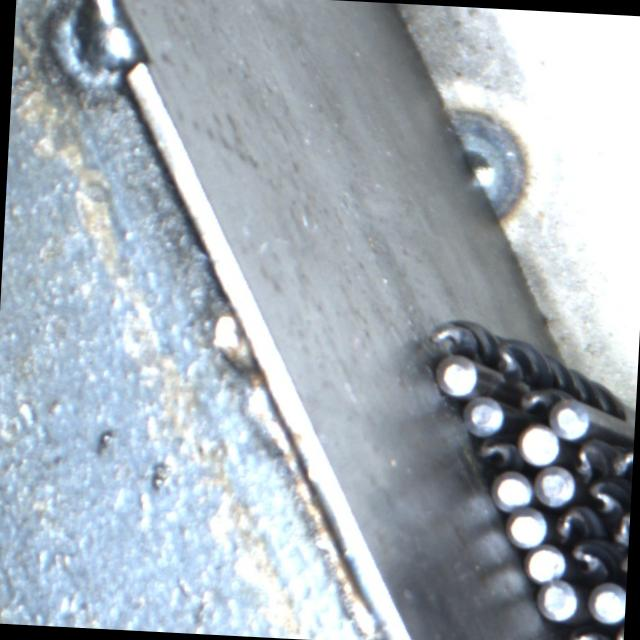tool: (517, 422, 560, 467), (584, 580, 626, 626), (550, 398, 593, 442), (534, 464, 578, 506), (492, 468, 534, 511), (506, 507, 550, 548), (524, 542, 568, 583), (538, 579, 580, 621), (438, 357, 480, 398), (462, 392, 504, 433)
tool_b: (429, 312, 558, 366), (547, 501, 604, 540), (513, 380, 566, 420), (579, 478, 632, 516), (472, 433, 524, 469), (568, 438, 611, 478), (567, 542, 608, 580), (604, 508, 630, 548), (609, 440, 634, 480), (560, 623, 605, 640)
